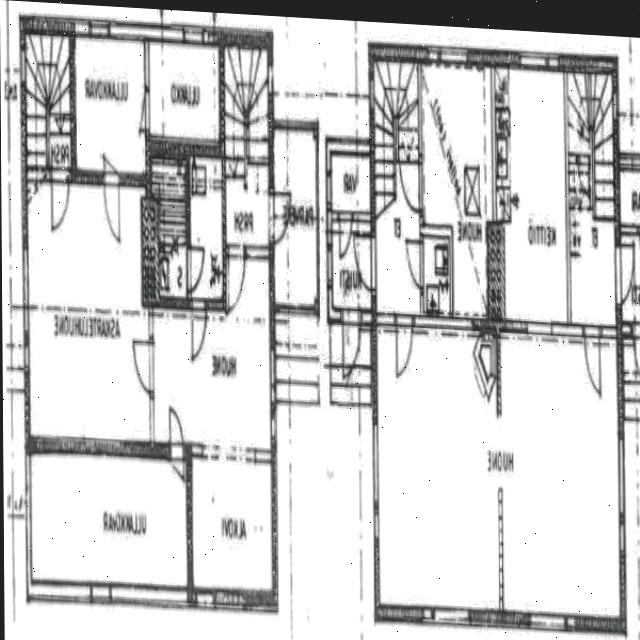room: (27, 180, 150, 442), (152, 257, 271, 451), (26, 456, 193, 586), (420, 64, 494, 319), (567, 73, 616, 327), (374, 61, 420, 315), (76, 37, 145, 175), (224, 49, 269, 245), (273, 128, 318, 308), (149, 43, 219, 142), (25, 33, 71, 168), (189, 156, 223, 301), (332, 234, 371, 309), (331, 153, 370, 213), (621, 234, 640, 323)
